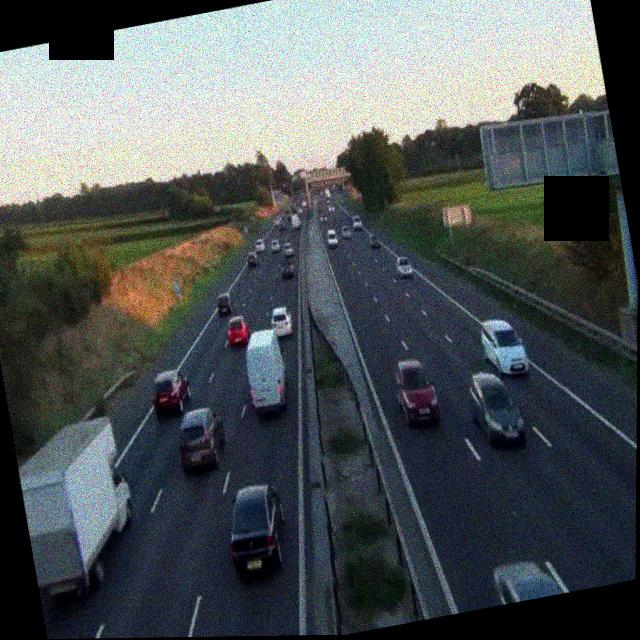car: (220, 480, 293, 578), (463, 363, 528, 452), (490, 551, 571, 605), (173, 405, 229, 472), (391, 355, 441, 429), (478, 314, 530, 380), (147, 367, 195, 419), (268, 305, 295, 339), (223, 314, 251, 346), (394, 252, 415, 279), (214, 291, 234, 317), (278, 258, 295, 280), (367, 230, 380, 249), (326, 229, 339, 248), (244, 250, 259, 266), (280, 241, 294, 258), (268, 237, 280, 254), (350, 216, 361, 231)
truck: (11, 413, 146, 603), (238, 327, 293, 416), (289, 212, 302, 231)
